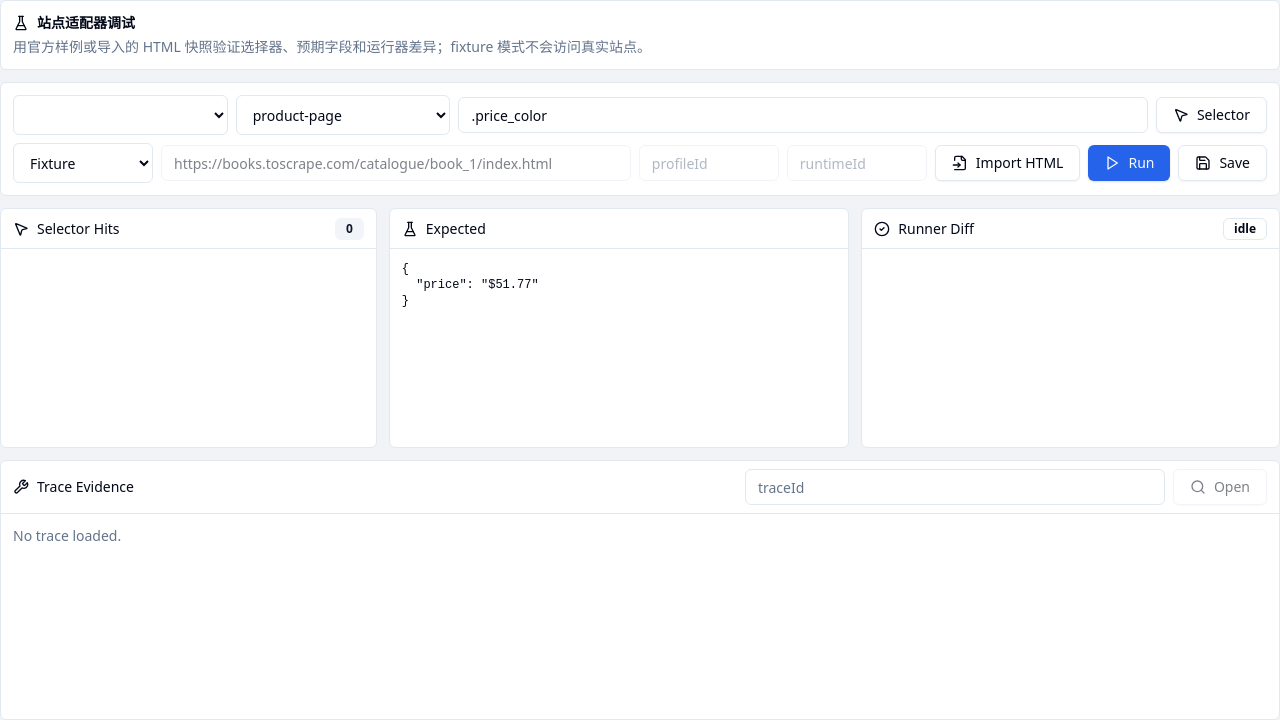
SiteAdapterLabPanel Repair Studio handoff › generates a scoped Repair Studio model diff from a loaded repair bundle
Expected: the text box showing "$51.77" is shown, [390,249,848,447]
In the field with placeholder "traceId": [955, 487] box [745,469,1165,505], type "trace-lab"
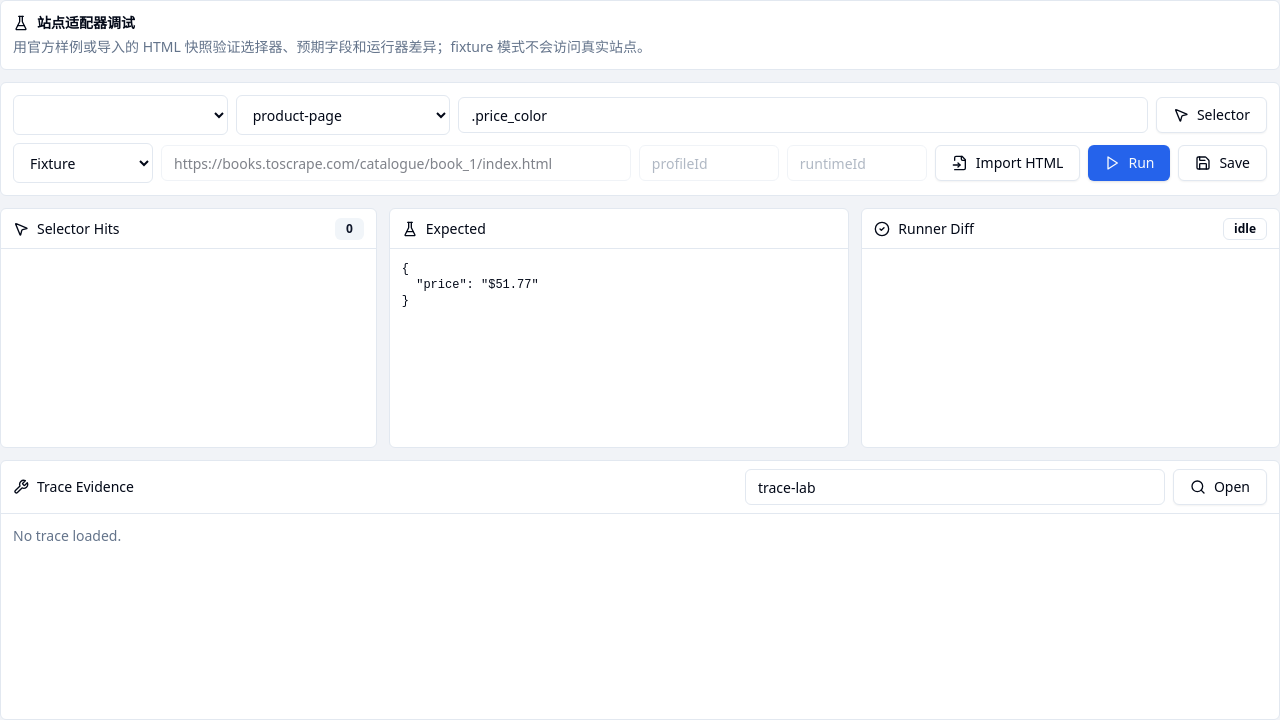
Click the button "Open": [1220, 487] box [1173,469,1267,505]
(page scrolled)
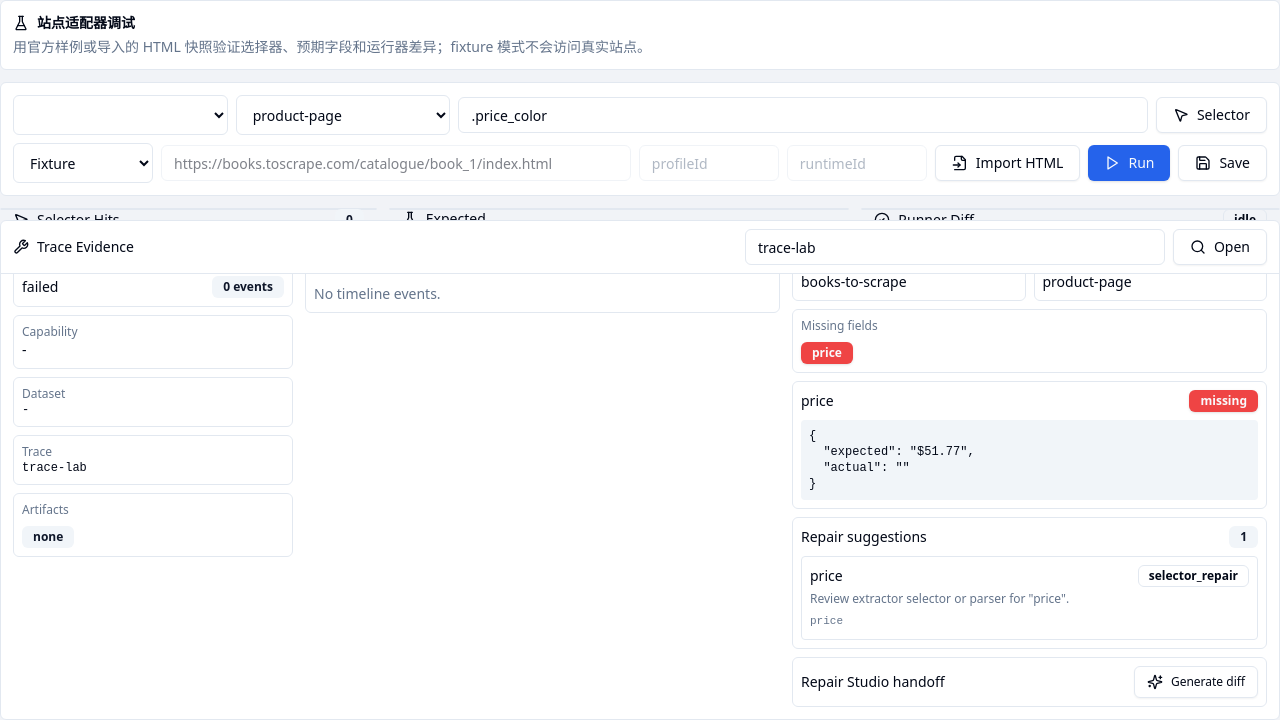
Expected: the text "Repair suggestions" is shown, [801,527,927,547]
Click the button "Generate diff": [1196, 682] box [1134,666,1258,698]
(page scrolled)
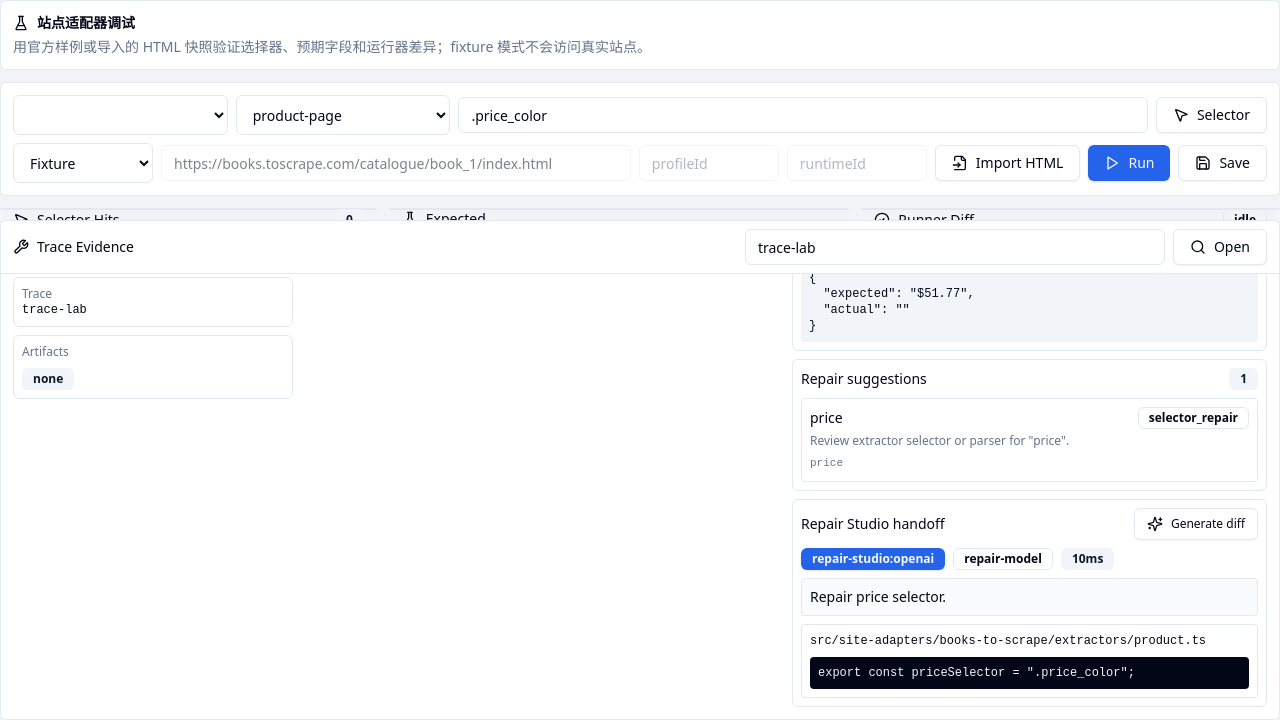
Expected: the text "Repair price selector." is shown, [801,578,1258,616]
Expected: the text "src/site-adapters/books-to-scrape/extractors/product.ts" is shown, [810,633,1249,649]
